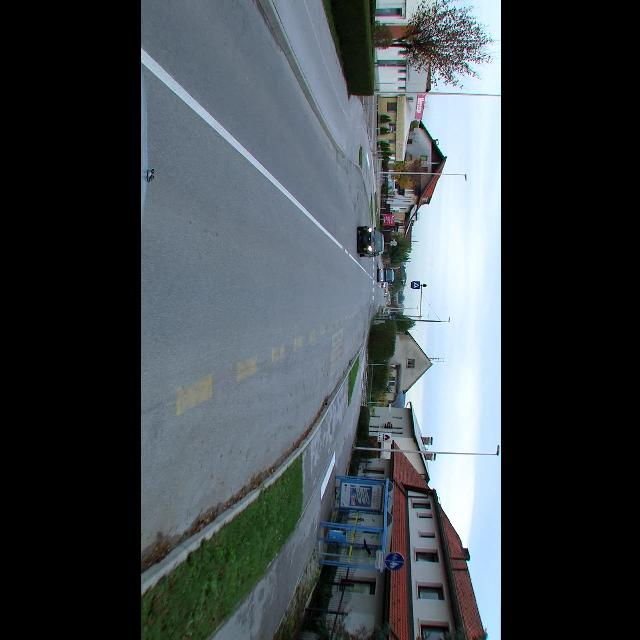Rectangle: (373, 550, 383, 570)
Round: (384, 552, 404, 572)
Squared: (411, 282, 419, 290)
